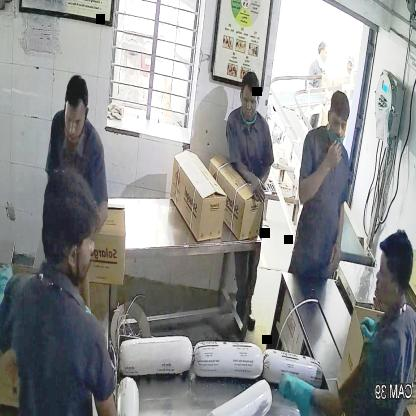no_goggles: (62, 107, 91, 134), (326, 113, 352, 136)
